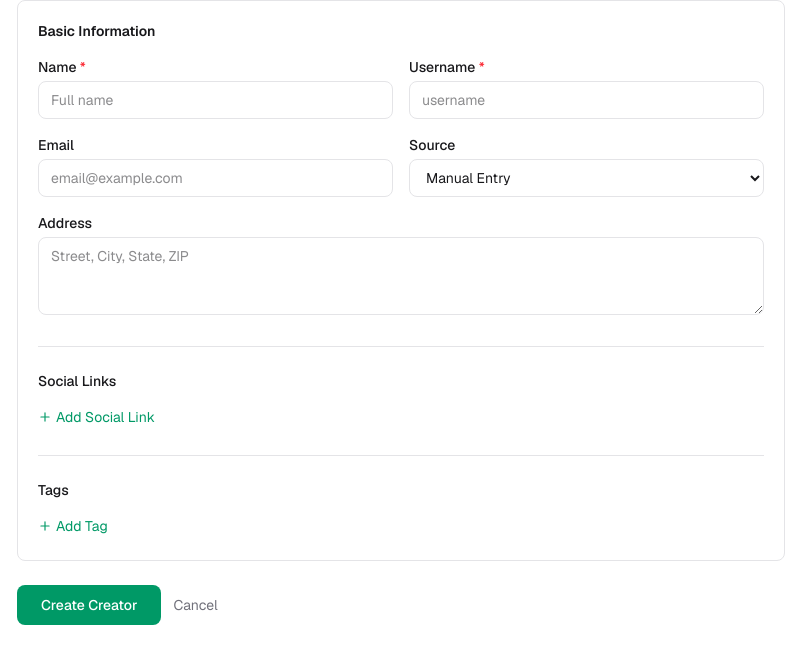
it: CreatorForm › shows validation errors for empty name and username on submit
Step 1. Click the button "Create Creator" → (89,605), box x1=17 y1=585 x2=161 y2=625
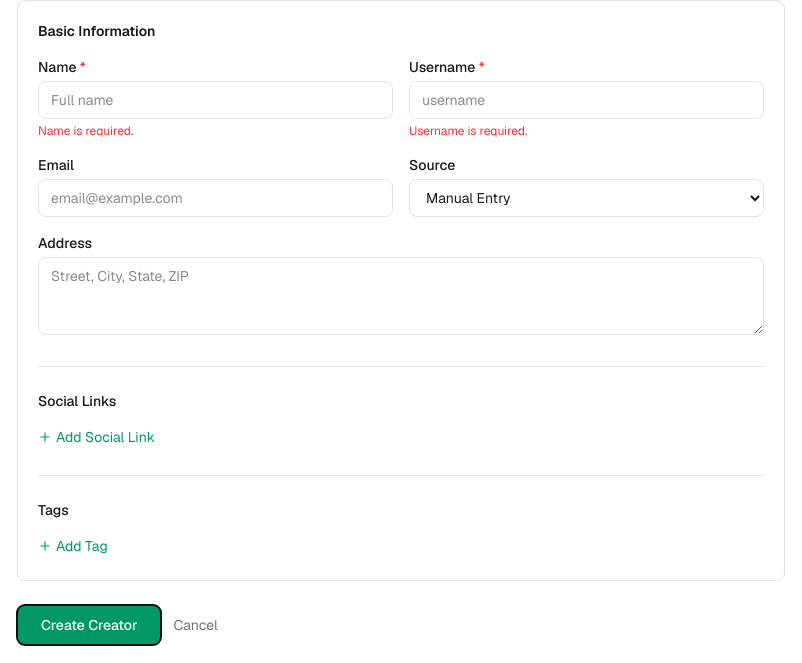
Expected: the text "Name is required." is shown, x1=38 y1=123 x2=133 y2=139
Expected: the text "Username is required." is shown, x1=409 y1=123 x2=527 y2=139
